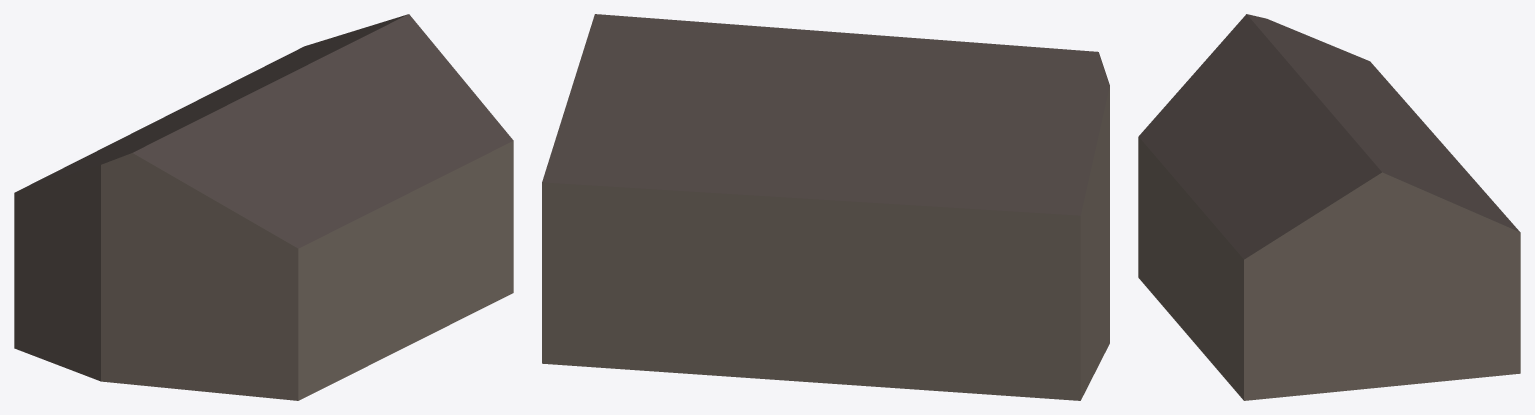
3 renders of one model, left to right at view 1: azimuth 30°, elevation 25°; view 2: azimuth 150°, elevation 25°; view 3: azimuth 270°, elevation 25°, orthographic. The views are drawn at different scales.
Visible parts, largest first — view 1: HP-w1512800280; view 2: HP-w1512800280; view 3: HP-w1512800280.
Part boxes in pixels (x1,y1,x2,y2): HP-w1512800280: (14, 14, 513, 400); HP-w1512800280: (542, 14, 1109, 400); HP-w1512800280: (1138, 14, 1520, 400).
Size of the model in its own units: 26.69 by 13.7 by 22.06.
